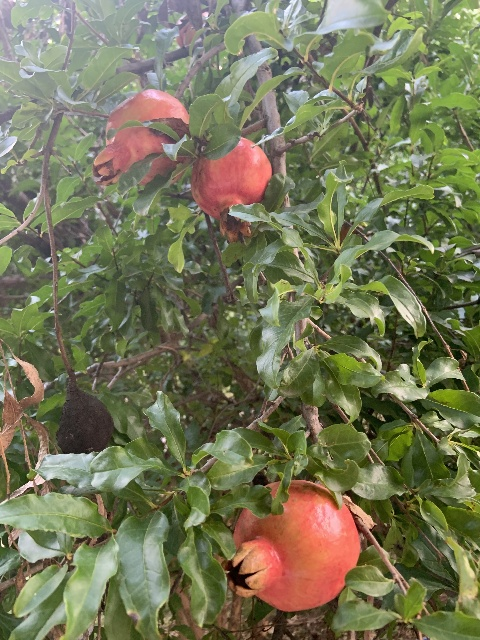ripe: (226, 479, 360, 611), (92, 89, 189, 185), (190, 137, 271, 242)
